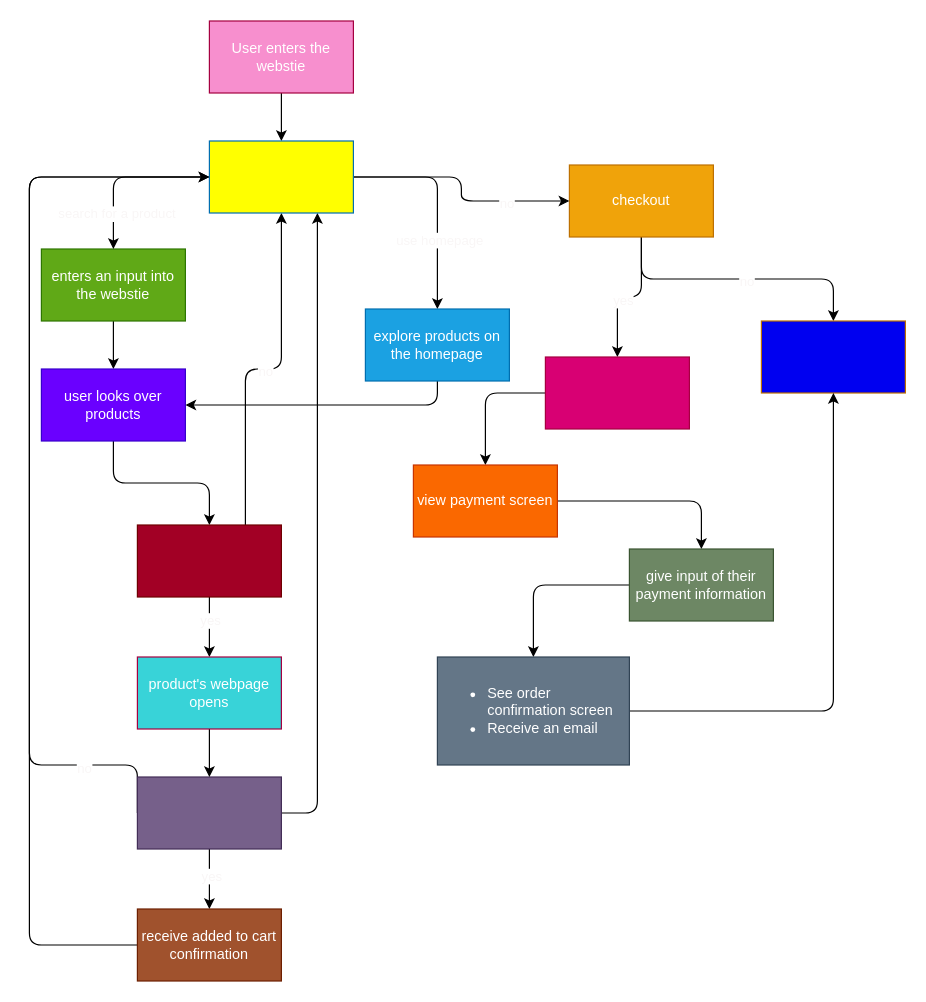
Image size: 926x1002. Some labels were removed from this diagram. The shapes that lost their labels are listed below. From the top down, each one's centre as x and y in pixels, then its label:
point 280,176: continue shopping
point 832,356: leave website
point 616,392: view cart screen
point 208,560: view the specific product
point 208,812: add product to cart
